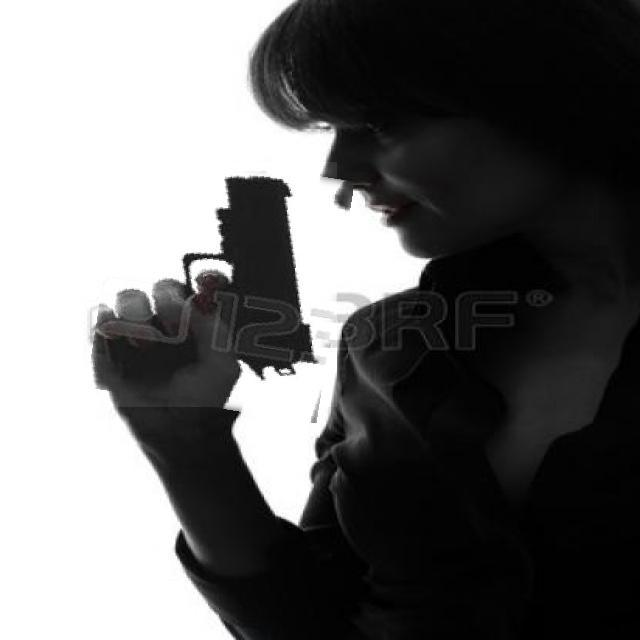handgun: (95, 154, 346, 416)
